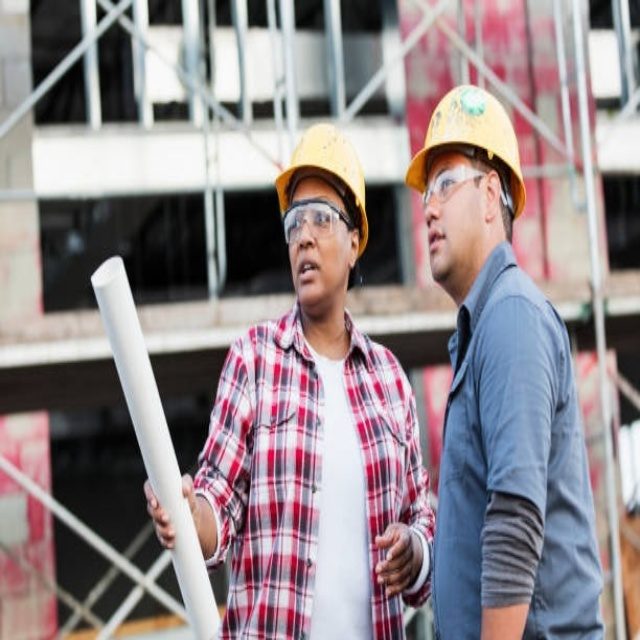Gafas: (423, 165, 493, 209), (283, 201, 353, 245)
Sin_guantes: (141, 471, 194, 553), (374, 520, 422, 596)
Sin_mascara: (292, 247, 330, 315), (424, 223, 459, 279)
